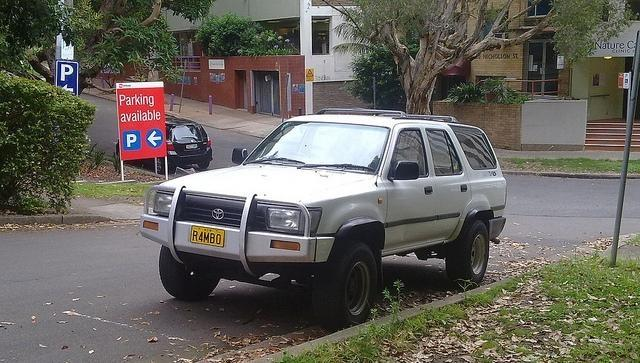car: (138, 107, 508, 332), (112, 112, 213, 176)
truck: (139, 108, 507, 336)
